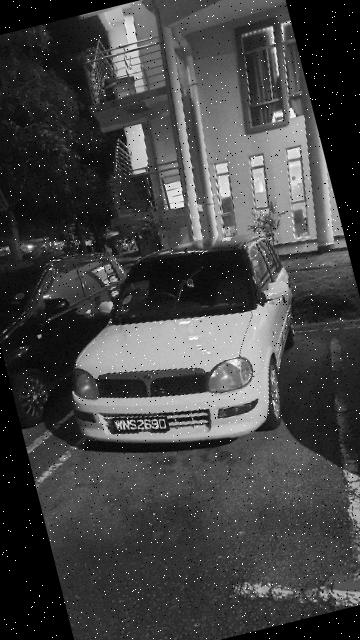License_Plate: (112, 406, 173, 447)
car: (40, 219, 327, 475), (1, 231, 172, 437)
